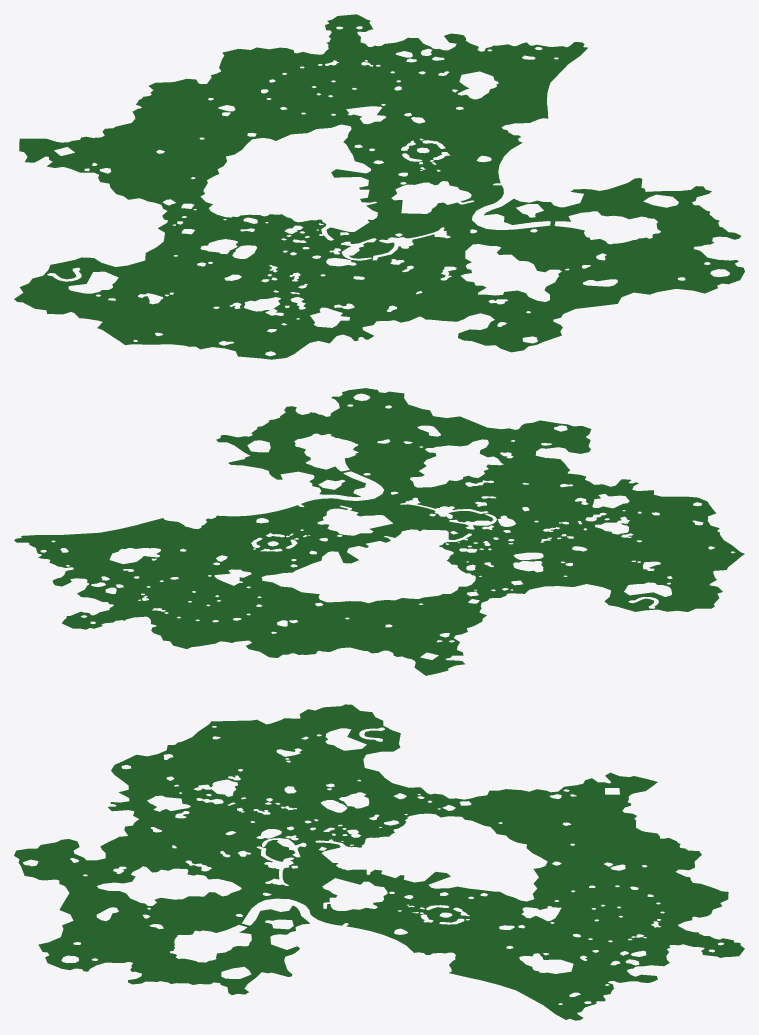
The model's file is nav_Rect.fbx.
3 views of the same model, one above another, from view 1: azimuth 30°, elevation 25°; view 2: azimuth 150°, elevation 25°; view 3: azimuth 270°, elevation 25° (orthographic). The views are drawn at different scales.
Parts seen in each view (by area): view 1: nav_Rect; view 2: nav_Rect; view 3: nav_Rect.
Part boxes in pixels (<box>): nav_Rect: <box>14,14,744,359</box>; nav_Rect: <box>14,388,744,675</box>; nav_Rect: <box>14,704,744,1020</box>.
Bounding box in the file's own units: 20295 × 4.55e-13 × 19835.
